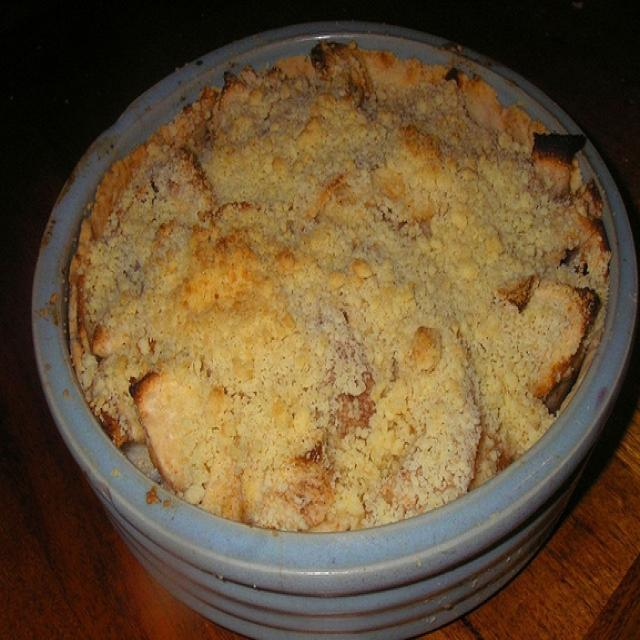Apple: (80, 48, 602, 490)
